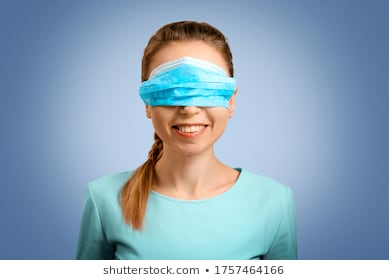mask_weared_incorrect: (149, 53, 238, 151)
